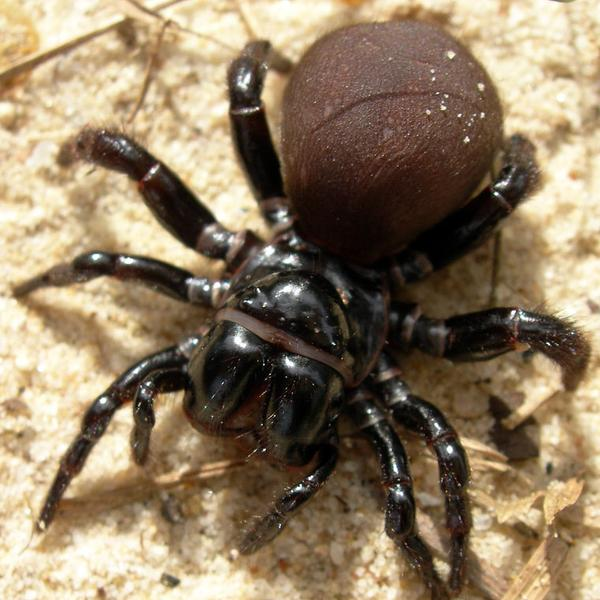Red Headed Mouse Spider: (33, 19, 593, 565)
